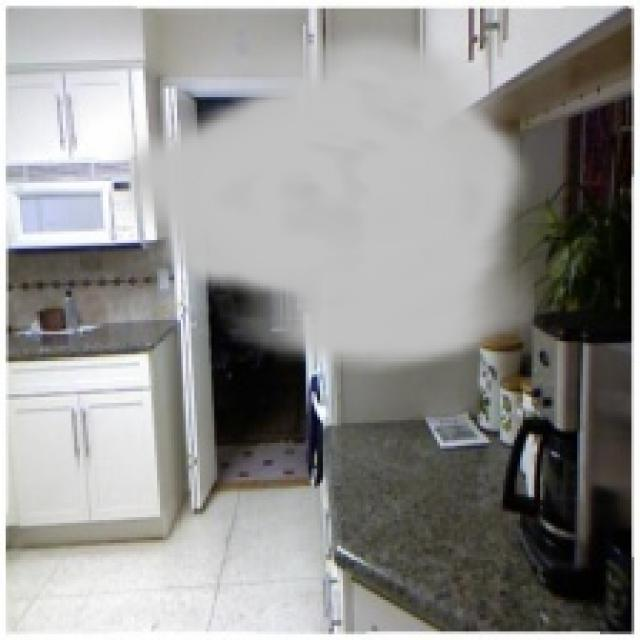Smoke: (111, 22, 534, 374)
